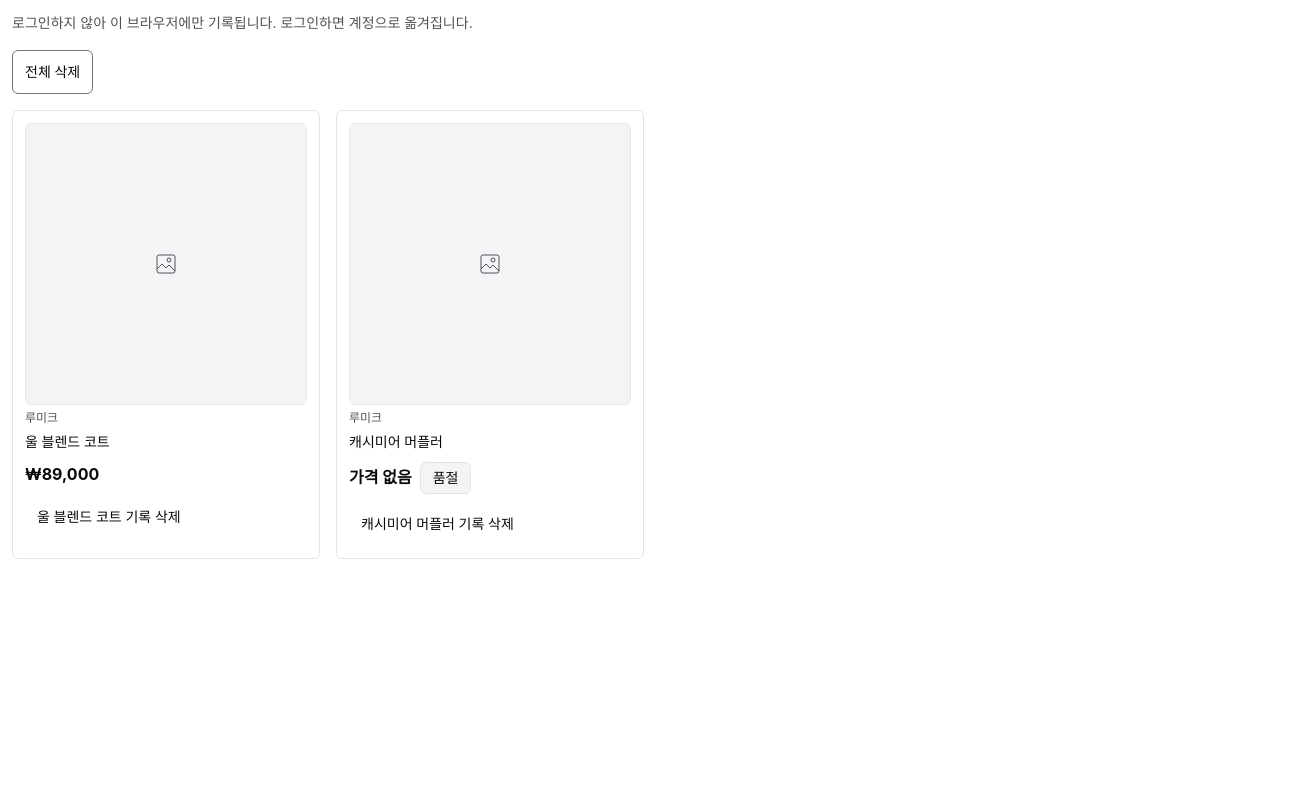
Test case: F7 삭제 › lets a visitor clear the history that only their browser has
This screenshot has width=1292, height=812.
Expected: the list named "최근 본 상품" is shown, left=12, top=110, right=644, bottom=559
Expected: the text "로그인하지 않아 이 브라우저에만 기록됩니다. 로그인하면 계정으로 옮겨집니다." is shown, left=12, top=14, right=473, bottom=31
What coordinates should you click on to do the following:
click the button "전체 삭제"
I would click on:
 (53, 72)
Its box is left=12, top=50, right=93, bottom=94.
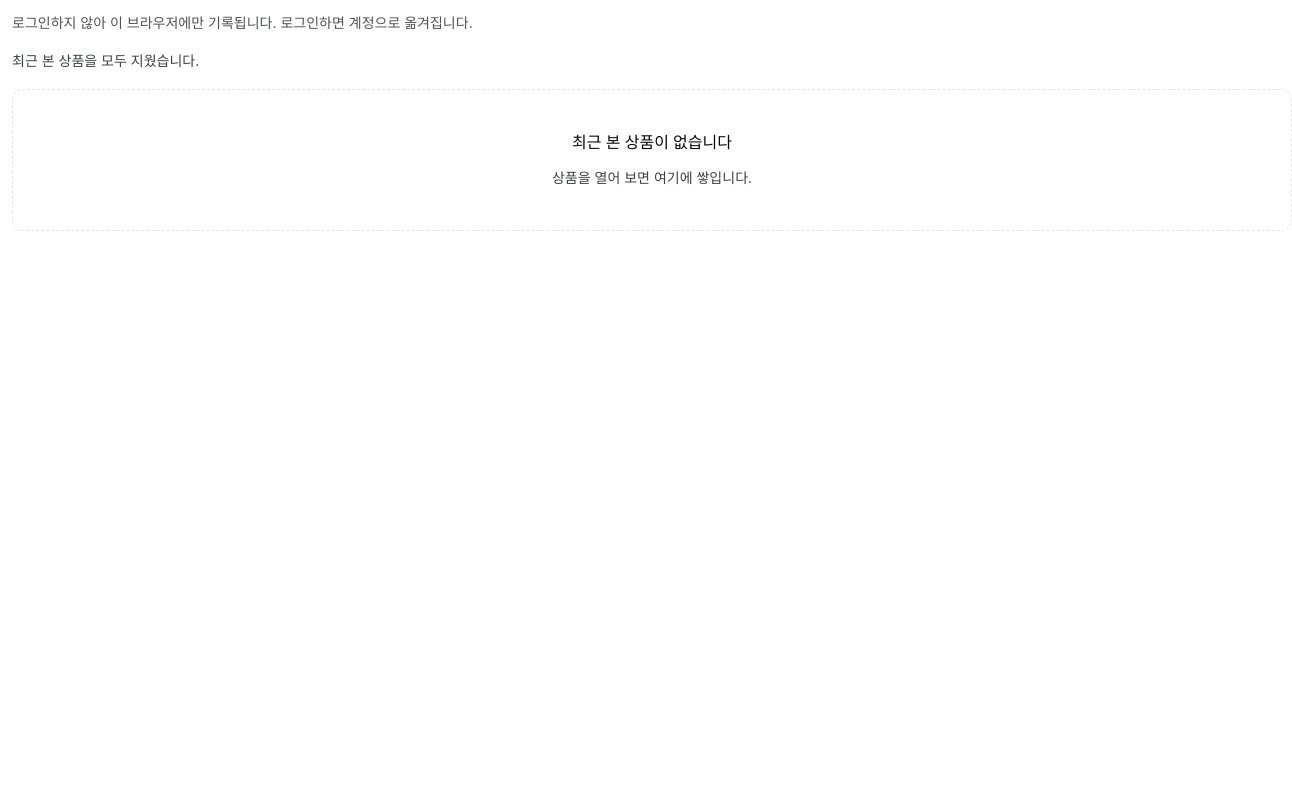
Now the text "최근 본 상품이 없습니다" is shown, box left=572, top=130, right=732, bottom=155
